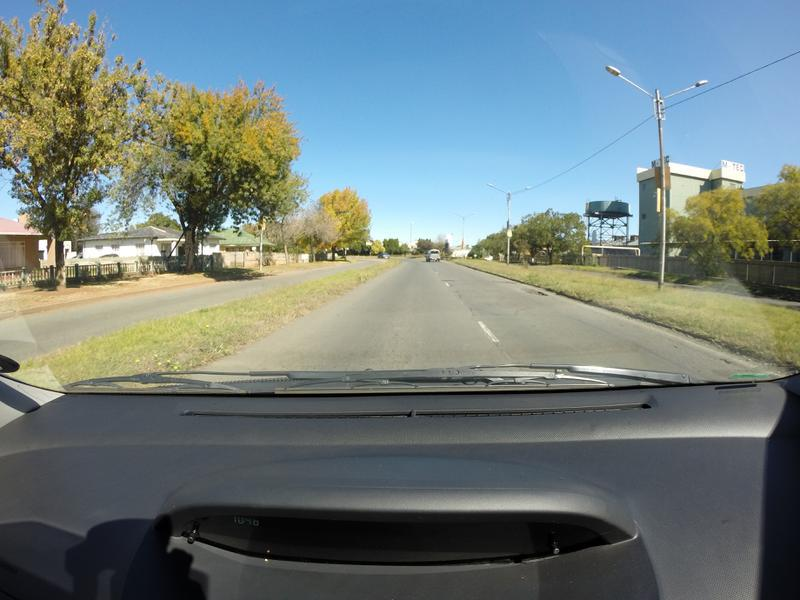pothole: (522, 283, 549, 304)
